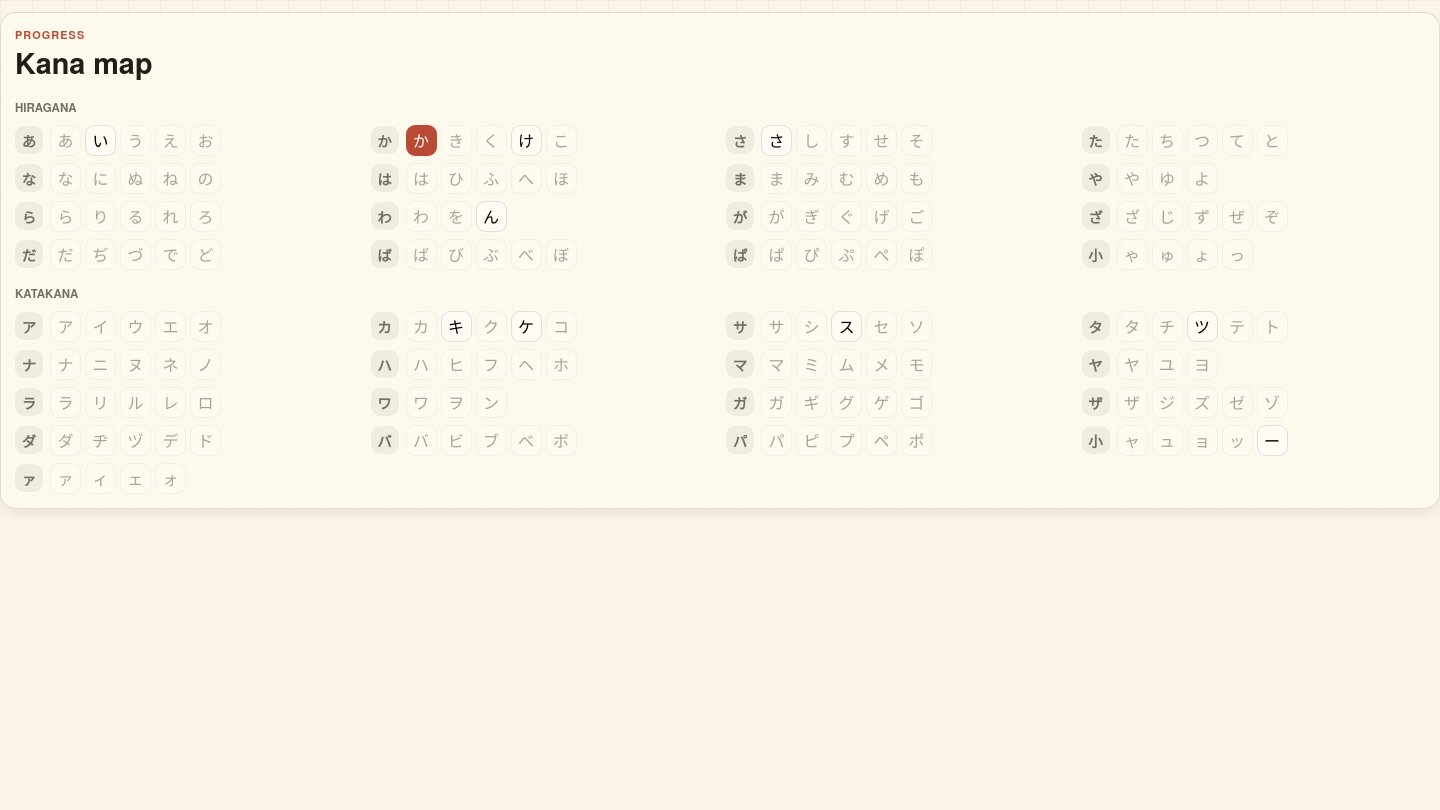
Test: KanaMap › shows useful per-kana metrics when a kana is selected
Click the button with class "kana-pill" showing "あ" at (66, 140), box 50,125 -> 81,156
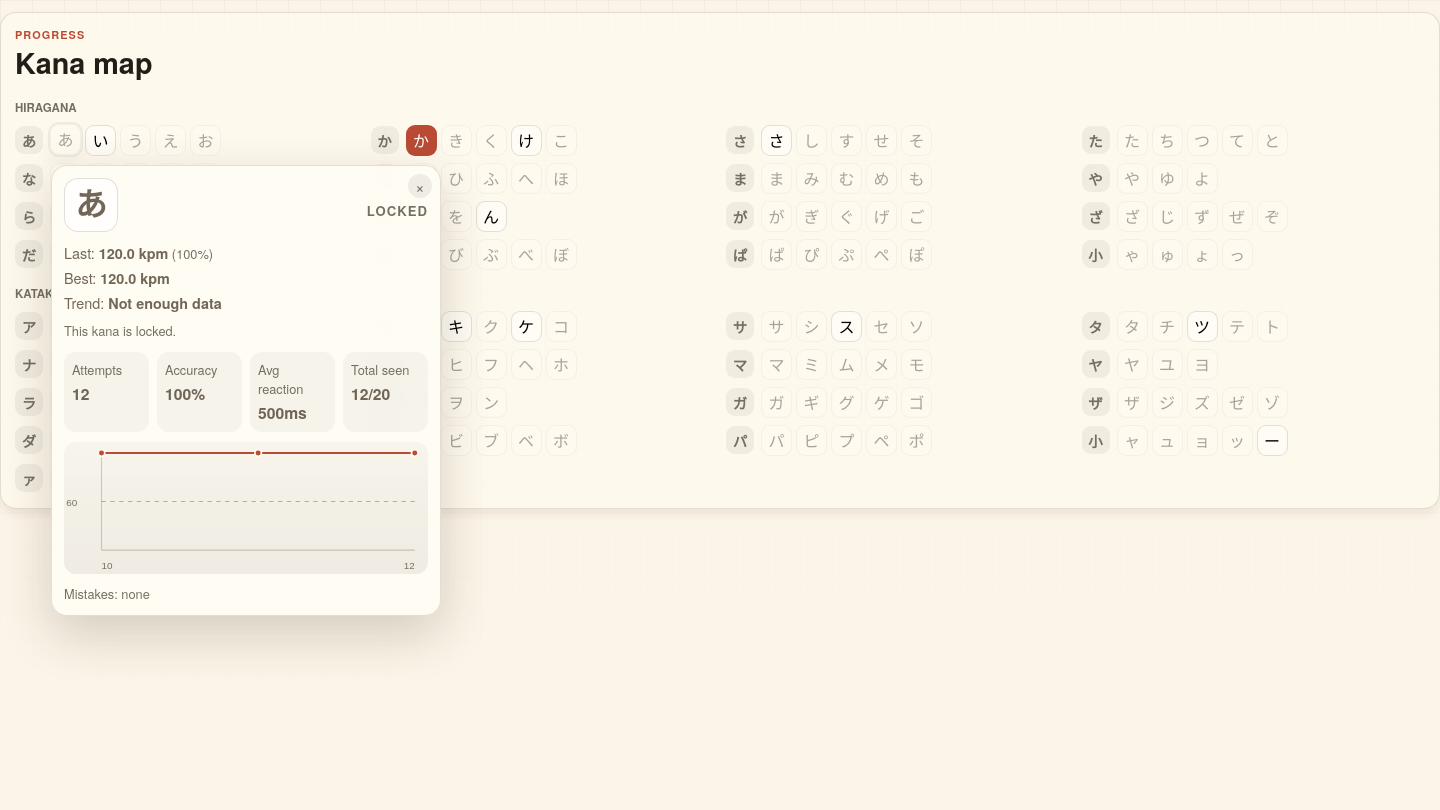
Now the element with class "kana-metrics-popup" shows "あ", box 75,187 -> 107,223
Now the text "Last:" is shown, box 64,242 -> 99,263
Now the text "Best:" is shown, box 64,267 -> 100,288
